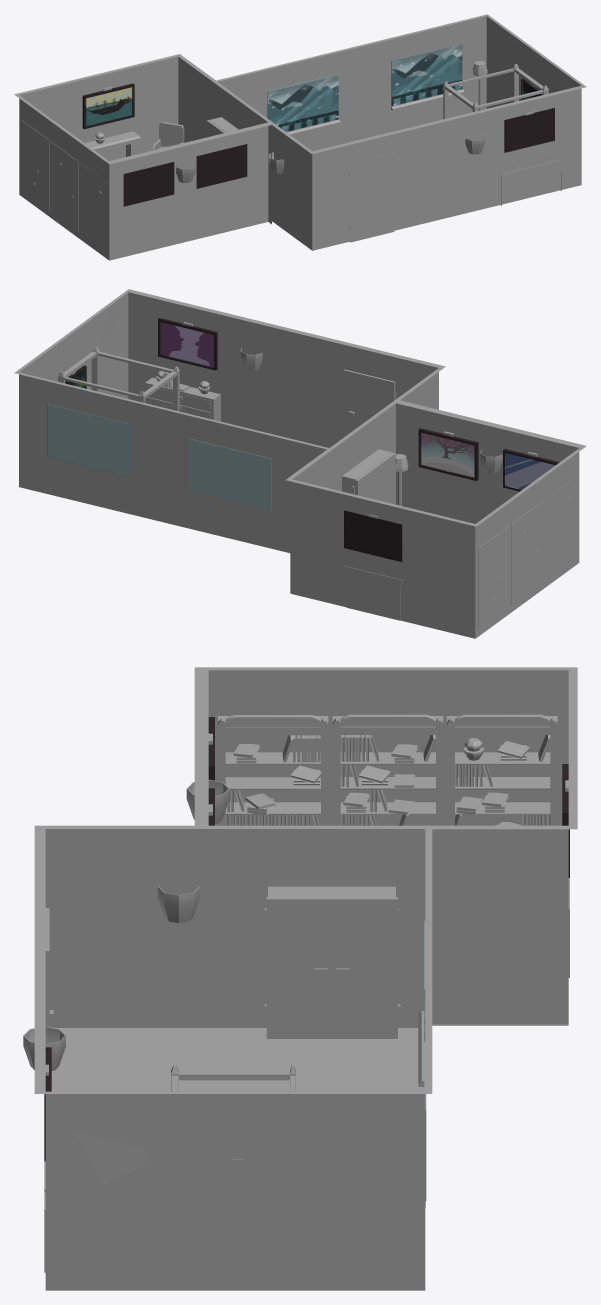
The model's file is theroomcollider.fbx.
3 views of the same model, one above another, from view 1: azimuth 30°, elevation 25°; view 2: azimuth 150°, elevation 25°; view 3: azimuth 270°, elevation 25° (orthographic). The views are drawn at different scales.
Visible parts, largest first — view 1: polySurface49; view 2: polySurface49; view 3: polySurface49.
Part boxes in pixels (left/top/right/bottom): polySurface49: left=14, top=14, right=586, bottom=260; polySurface49: left=14, top=289, right=586, bottom=638; polySurface49: left=23, top=667, right=577, bottom=1290.
Size of the model in its own units: 1830 by 411 by 1004.
